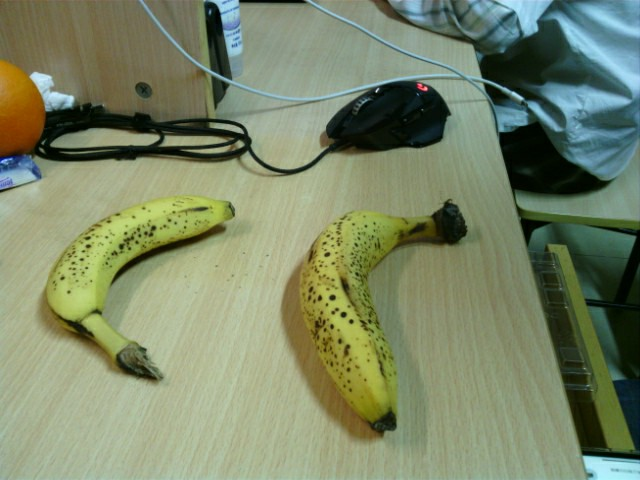normal_banana: (298, 198, 468, 433), (48, 198, 236, 382)
